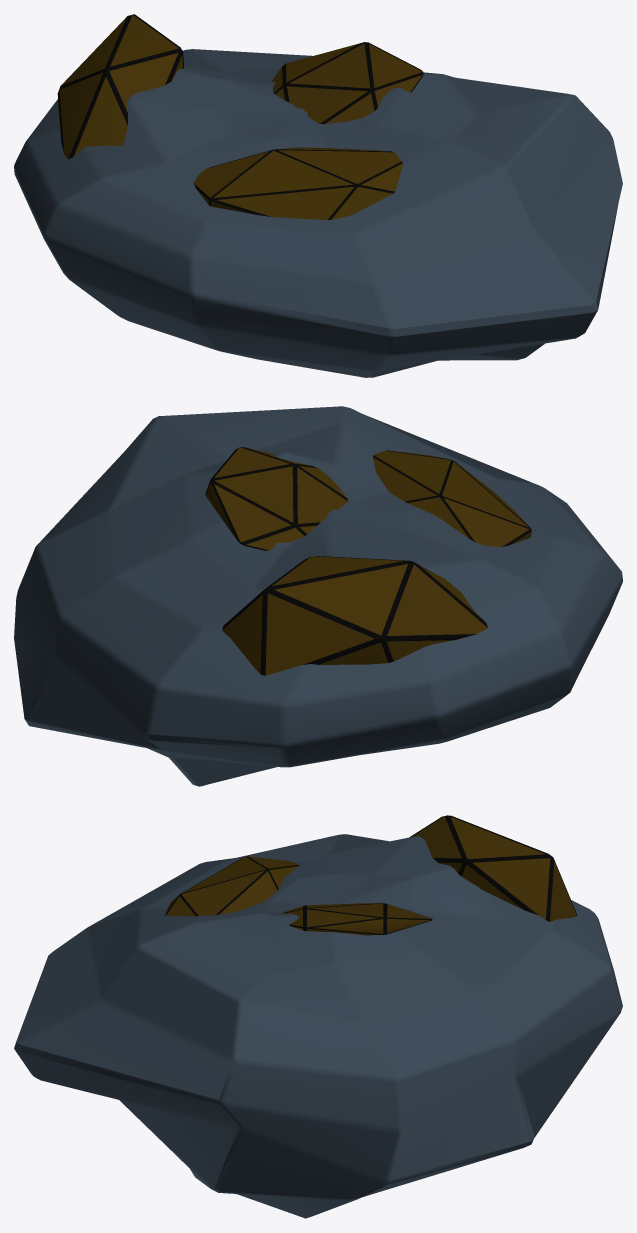
File: High Quality Ore.fbx
3 renders of one model, top to bottom at view 1: azimuth 30°, elevation 25°; view 2: azimuth 150°, elevation 25°; view 3: azimuth 270°, elevation 25°, orthographic. The views are drawn at different scales.
Visible parts, largest first — view 1: pSphere1, pPlatonic1, pPlatonic3, pPlatonic2; view 2: pSphere1, pPlatonic3, pPlatonic2, pPlatonic1; view 3: pSphere1, pPlatonic3, pPlatonic1, pPlatonic2.
Boxes of the visible parts, x1,y1,x2,y2 form: pSphere1: [14, 49, 622, 377]; pPlatonic1: [193, 147, 402, 220]; pPlatonic3: [57, 14, 183, 159]; pPlatonic2: [272, 42, 423, 124]; pSphere1: [14, 406, 622, 786]; pPlatonic3: [222, 556, 487, 675]; pPlatonic2: [205, 447, 348, 550]; pPlatonic1: [373, 450, 531, 546]; pSphere1: [14, 834, 622, 1218]; pPlatonic3: [409, 815, 576, 921]; pPlatonic1: [165, 856, 299, 916]; pPlatonic2: [283, 903, 432, 935].
Bounding box in the file's own units: 4.03 × 2.07 × 4.46.
